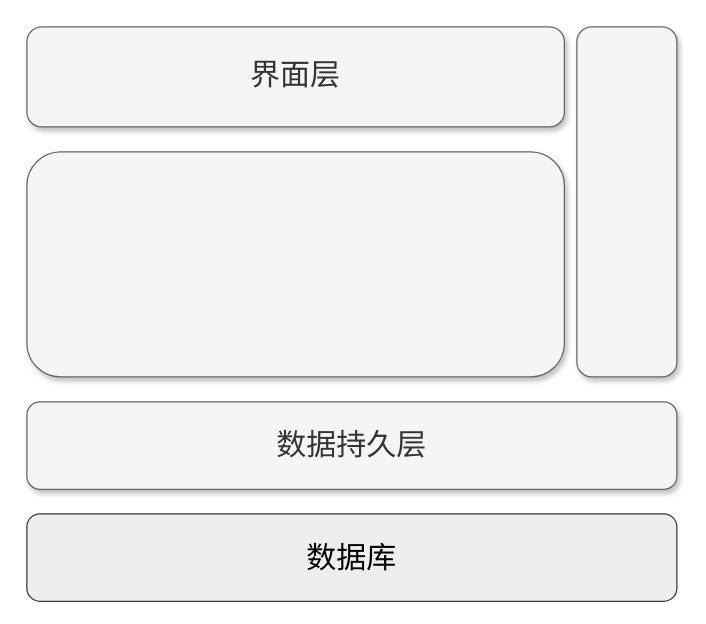
Image size: 706x624. Some labels were removed from this diagram. The centre of each missing label's shape, as x and y in pixels:
"应用逻辑层" goes at (296,266).
"通用服务层" goes at (627,203).
